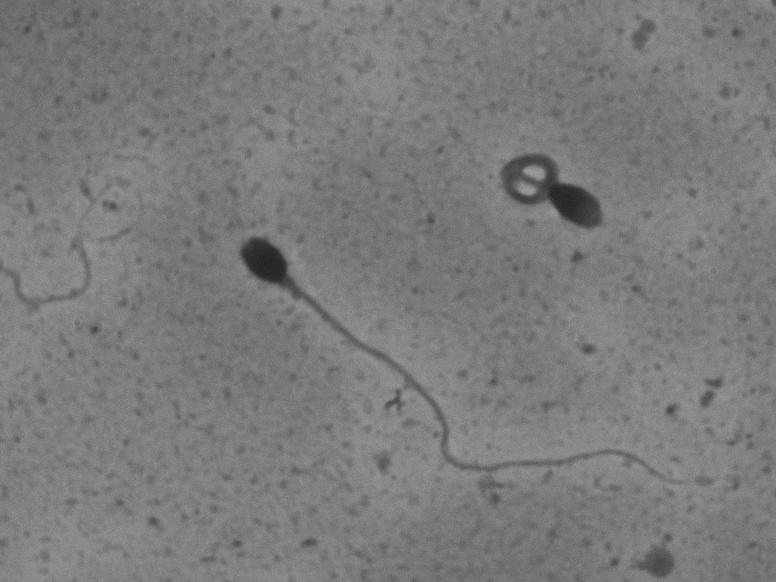Abnormal: (483, 110, 652, 242)
Normal: (201, 222, 718, 505)
